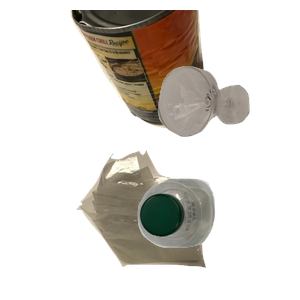glass: (156, 64, 300, 194)
metal: (68, 10, 265, 131)
plastic: (135, 176, 300, 300)
trash: (74, 148, 273, 300)
